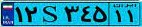character: (39, 3, 63, 24), (62, 2, 80, 25), (91, 3, 109, 25), (24, 3, 39, 25), (80, 3, 93, 25), (14, 3, 24, 25), (112, 8, 123, 24), (126, 8, 136, 24)
